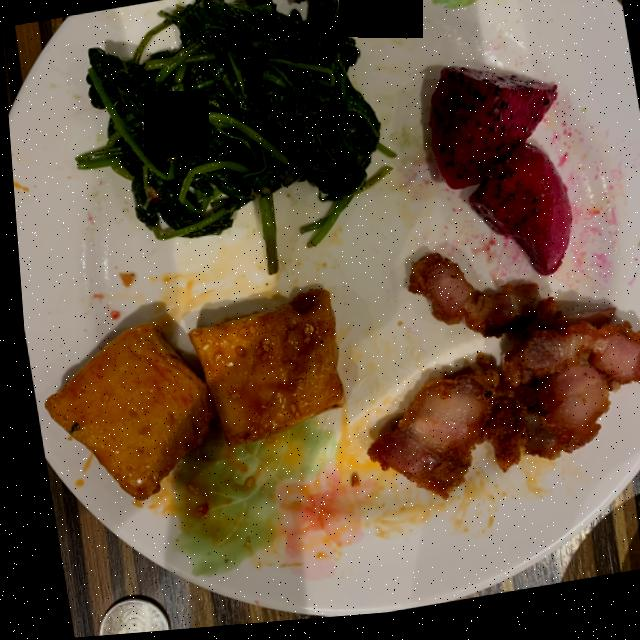coin: (89, 598, 159, 637)
creamy tofu: (38, 293, 338, 502)
red grilled pork: (360, 260, 640, 505)
sweet potato leaves: (75, 0, 377, 240)
